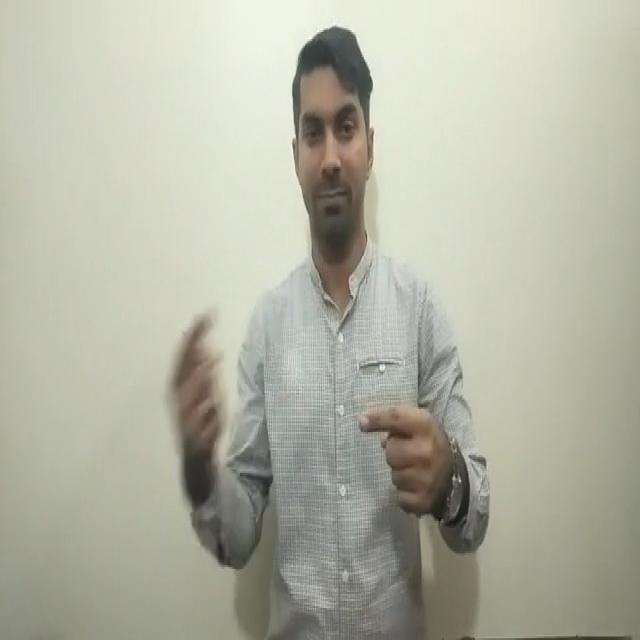allergy: (162, 304, 466, 534)
